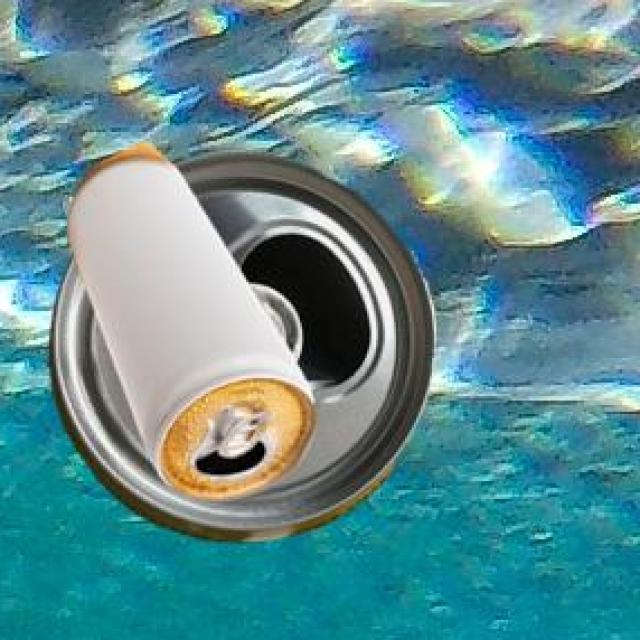logam: (53, 153, 440, 545), (70, 147, 319, 505)
